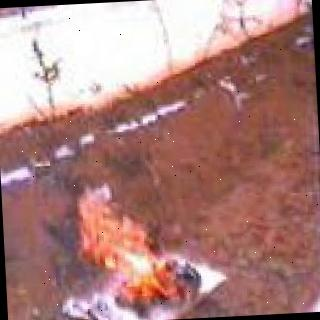fire: (75, 173, 201, 320)
